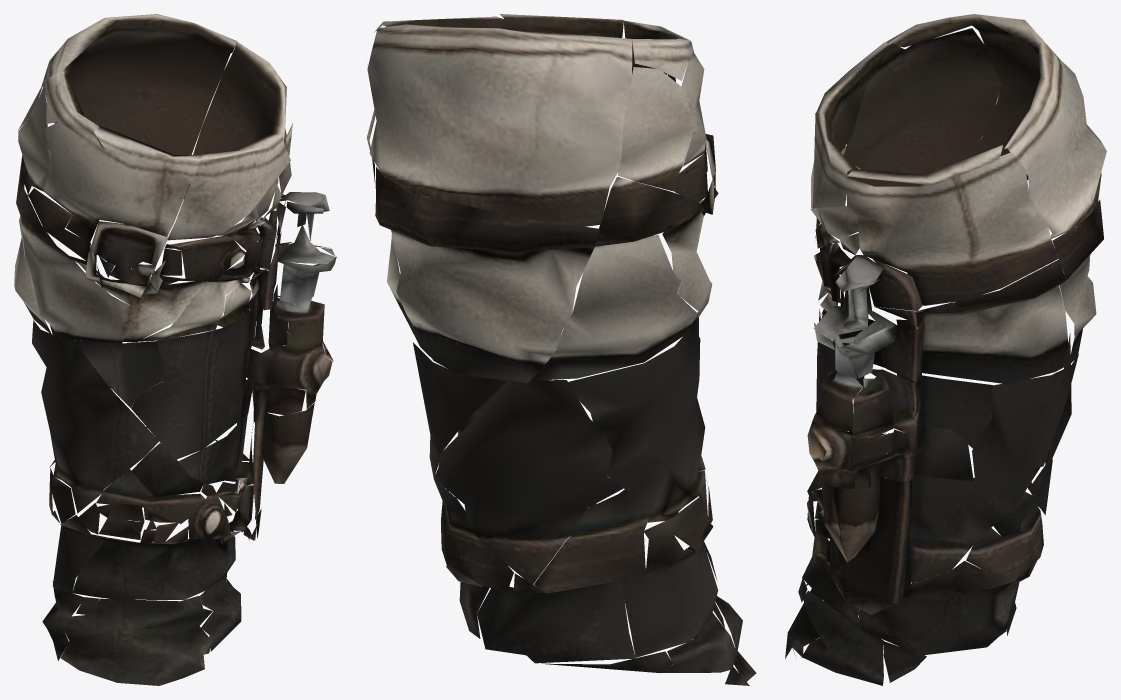
File: a_ward_gloves.glb
3 views of the same model, side by side, from view 1: azimuth 30°, elevation 25°; view 2: azimuth 150°, elevation 25°; view 3: azimuth 270°, elevation 25° (orthographic). The views are drawn at different scales.
Visible parts, largest first — view 1: tripo_node_96c35e25-aec8-42d2-b09c-9cceb882ffe5; view 2: tripo_node_96c35e25-aec8-42d2-b09c-9cceb882ffe5; view 3: tripo_node_96c35e25-aec8-42d2-b09c-9cceb882ffe5.
Boxes of the visible parts, x1,y1,x2,y2 form: tripo_node_96c35e25-aec8-42d2-b09c-9cceb882ffe5: [14, 14, 336, 685]; tripo_node_96c35e25-aec8-42d2-b09c-9cceb882ffe5: [366, 14, 756, 685]; tripo_node_96c35e25-aec8-42d2-b09c-9cceb882ffe5: [785, 14, 1106, 685].
Bounding box in the file's own units: 0.12 × 0.2454 × 0.1123.
1 material, 1 textured.
